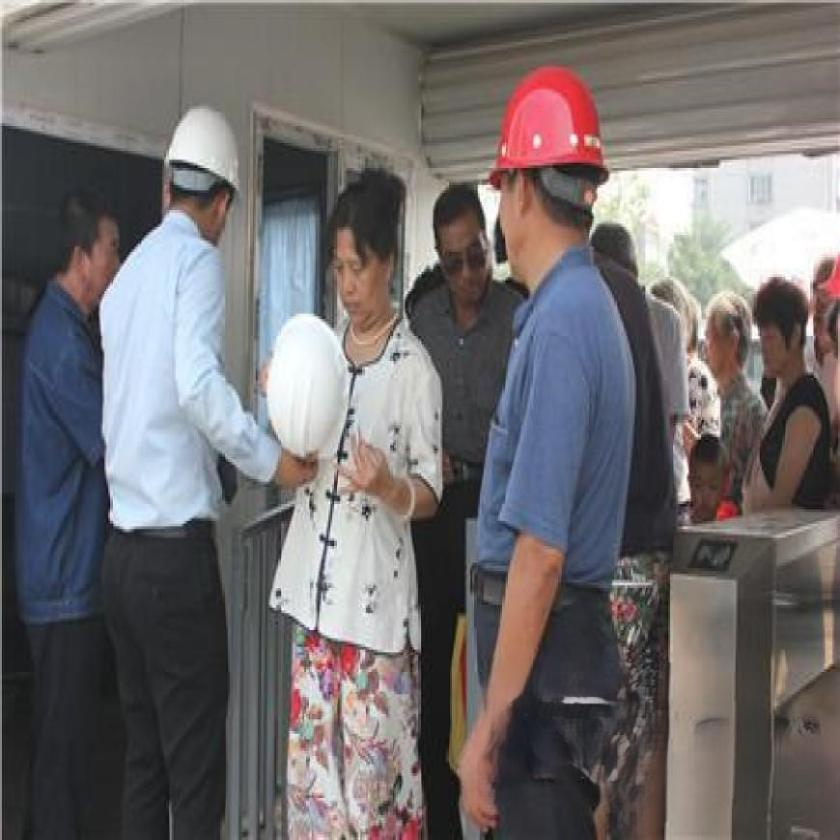Con_casco: (489, 72, 614, 296), (165, 102, 245, 266)
Sin_casco: (320, 154, 410, 341), (56, 188, 126, 317), (430, 183, 486, 301), (751, 276, 808, 386), (699, 283, 751, 391)
